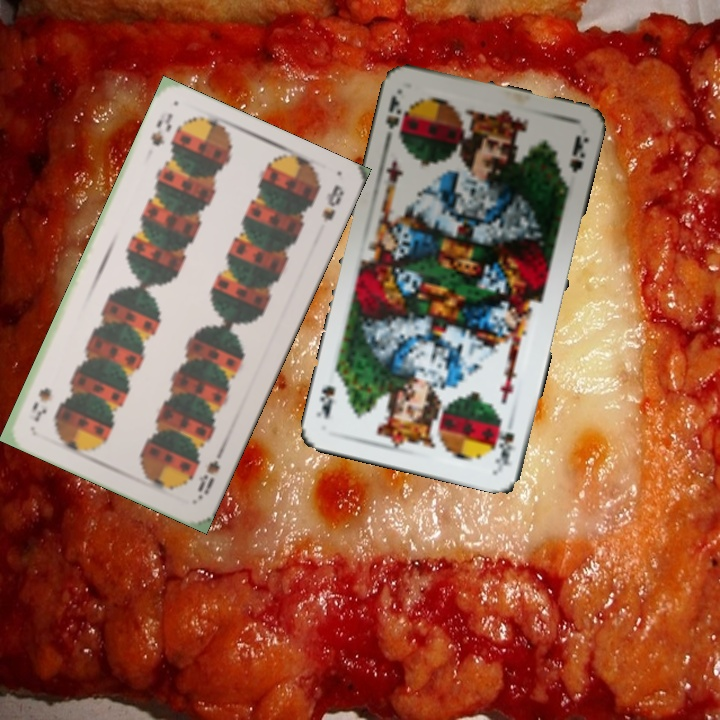S8: (193, 446, 225, 503), (146, 109, 176, 149)
SK: (491, 428, 517, 468), (382, 91, 404, 132)
